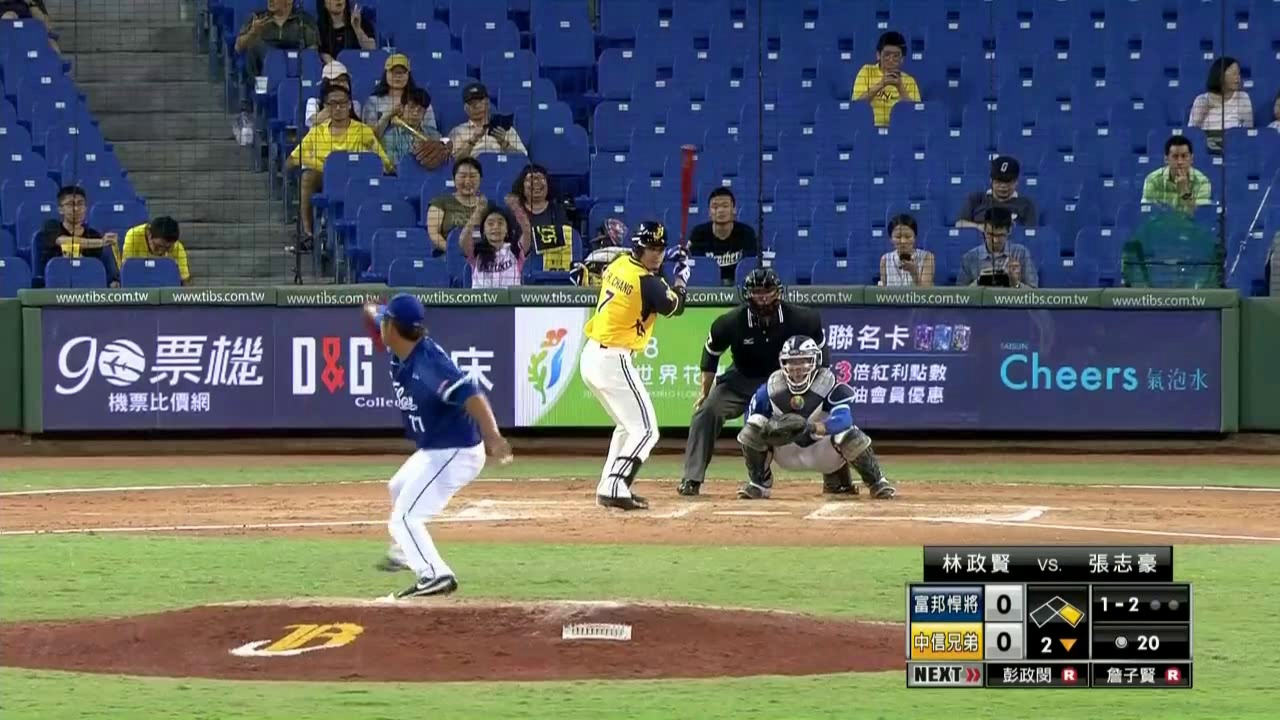ball: (496, 450, 517, 469)
base: (1028, 588, 1086, 628)
bat: (676, 142, 699, 258)
out: (1147, 589, 1183, 617)
score1: (986, 586, 1022, 618)
score2: (987, 625, 1023, 657)
session: (1029, 632, 1086, 656)
strikeball: (1091, 590, 1144, 615)
total: (1092, 626, 1183, 657)
